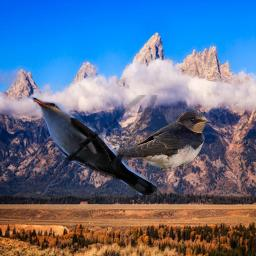Cuckoo: (29, 95, 157, 195)
Swallow: (110, 109, 211, 173)
